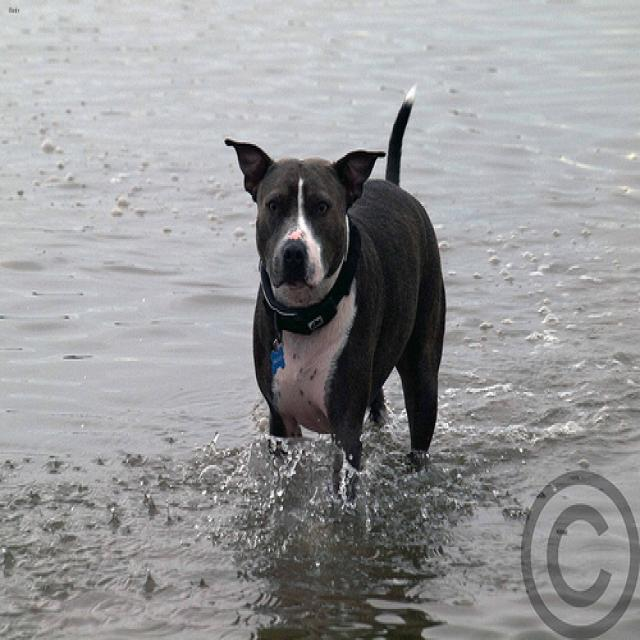dog-staffordshire_bull_terrier: (220, 75, 451, 501)
